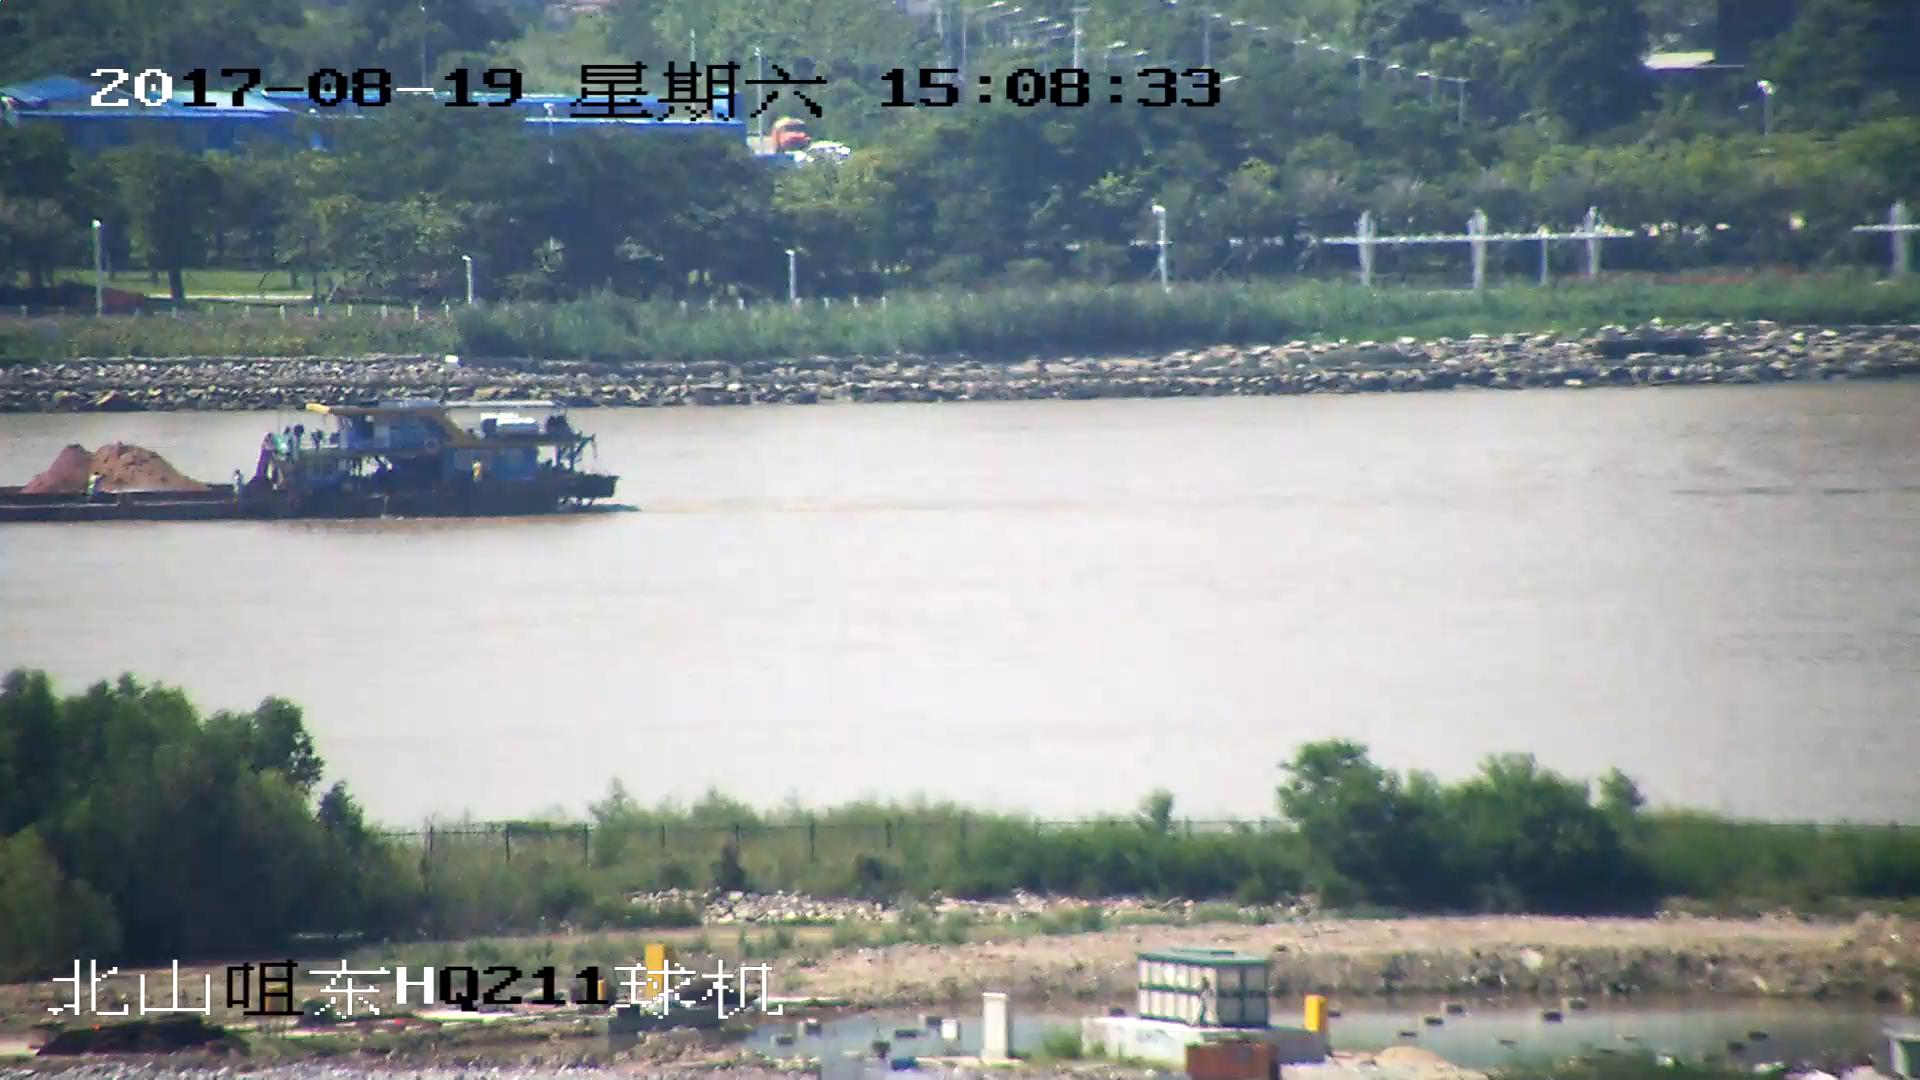ore carrier: (1, 381, 624, 520)
